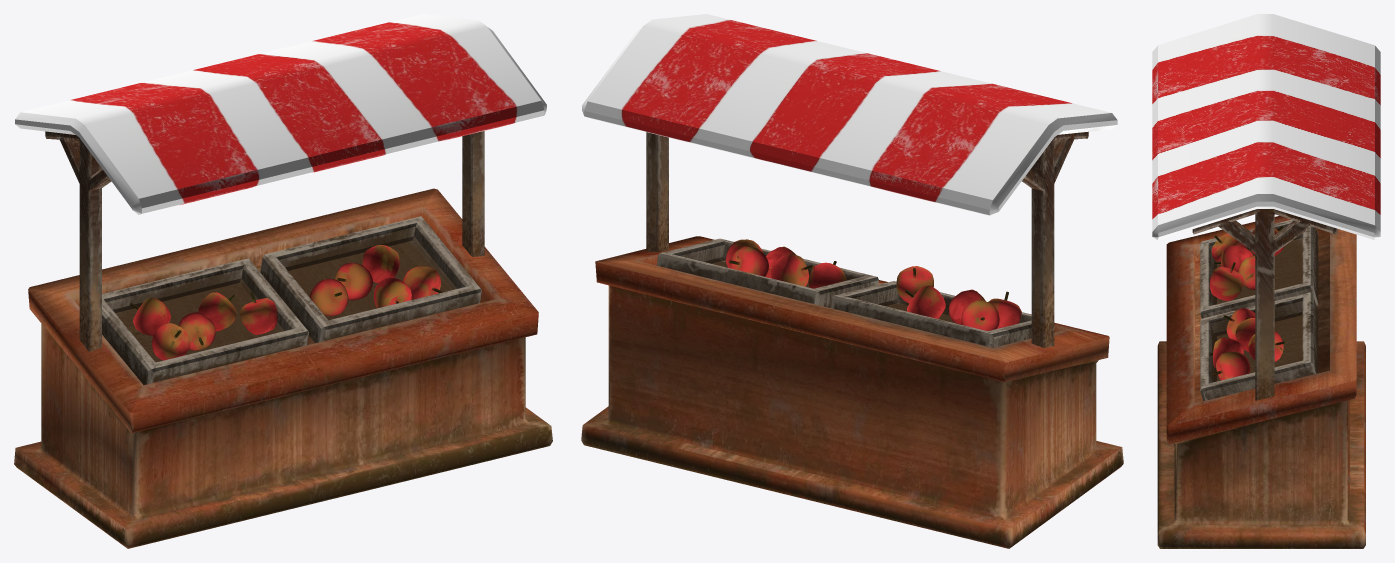
File: fruit_stand.glb
3 renders of one model, left to right at view 1: azimuth 30°, elevation 25°; view 2: azimuth 150°, elevation 25°; view 3: azimuth 270°, elevation 25°, orthographic. The views are drawn at different scales.
Parts seen in each view (by area): view 1: realscale; view 2: realscale; view 3: realscale.
Part boxes in pixels (x1=…): realscale: x1=14, y1=14, x2=552, y2=548; realscale: x1=581, y1=14, x2=1123, y2=548; realscale: x1=1152, y1=14, x2=1380, y2=548.
Bounding box in the file's own units: 1.87 × 1.6 × 0.9439.
Materials: 5 (5 with a texture image).
